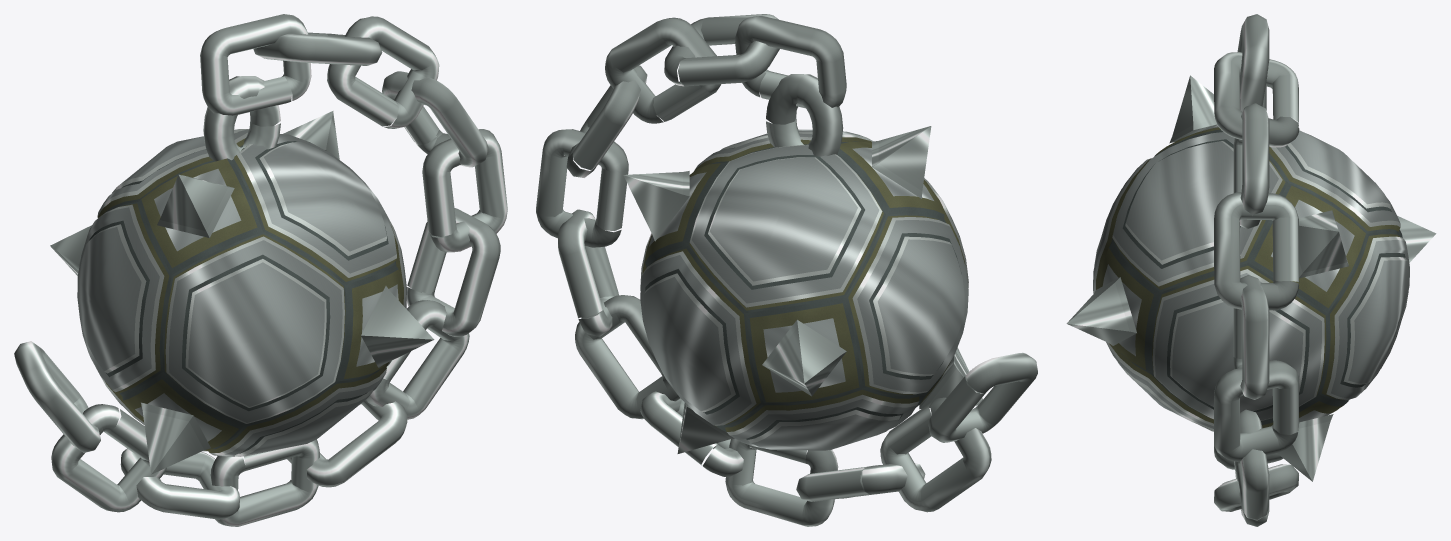
The model's file is ball_and_chain.glb.
3 views of the same model, side by side, from view 1: azimuth 30°, elevation 25°; view 2: azimuth 150°, elevation 25°; view 3: azimuth 270°, elevation 25° (orthographic). The views are drawn at different scales.
Parts seen in each view (by area): view 1: Cast plate 07 / recessed step 7, Sharp four-sided iron spike (×5), Cast plate 06 / recessed step 7, Cast plate 03 / recessed step 7, Forged rectangular chain link 00, Forged rectangular chain link 02, Forged rectangular chain link 04, Forged rectangular chain link 05, Forged rectangular chain link 10, Forged rectangular chain link 08, Cast plate 07 / recessed step 3, Forged rectangular chain link 06 (+44 smaller); view 2: Cast plate 02 / recessed step 7, Sharp four-sided iron spike (×5), Cast plate 03 / recessed step 7, Cast plate 00 / recessed step 7, Forged rectangular chain link 04, Forged rectangular chain link 10, Forged rectangular chain link 02, Forged rectangular chain link 11, Forged rectangular chain link 00, Forged rectangular chain link 01, Forged rectangular chain link 06, Forged rectangular chain link 05 (+40 smaller); view 3: Sharp four-sided iron spike (×5), Cast plate 06 / recessed step 7, Cast plate 04 / recessed step 7, Forged rectangular chain link 03, Forged rectangular chain link 05, Forged rectangular chain link 01, Cast plate 00 / recessed step 7, Forged rectangular chain link 04, Forged rectangular chain link 02, Cast plate 04 / recessed step 3, Cast plate 12 / recessed step 1, Cast plate 02 / recessed step 7 (+37 smaller).
Boxes of the visible parts, box(x1,y1,x2,y2) form: Cast plate 07 / recessed step 7: box(188, 262, 324, 406); Sharp four-sided iron spike (×5): box(50, 111, 434, 474); Cast plate 06 / recessed step 7: box(264, 141, 386, 251); Cast plate 03 / recessed step 7: box(78, 227, 141, 371); Forged rectangular chain link 00: box(200, 14, 311, 115); Forged rectangular chain link 02: box(327, 16, 439, 128); Forged rectangular chain link 04: box(422, 129, 507, 252); Forged rectangular chain link 05: box(406, 208, 500, 336); Forged rectangular chain link 10: box(51, 404, 166, 512); Forged rectangular chain link 08: box(210, 439, 319, 526); Cast plate 07 / recessed step 3: box(169, 240, 342, 422); Forged rectangular chain link 06: box(366, 300, 469, 419); Cast plate 02 / recessed step 7: box(709, 157, 857, 281); Sharp four-sided iron spike (×5): box(623, 126, 982, 453); Cast plate 03 / recessed step 7: box(877, 239, 964, 374); Cast plate 00 / recessed step 7: box(644, 277, 730, 411); Forged rectangular chain link 04: box(536, 129, 628, 247); Forged rectangular chain link 10: box(880, 397, 991, 512); Forged rectangular chain link 02: box(605, 17, 721, 123); Forged rectangular chain link 11: box(928, 352, 1037, 442); Forged rectangular chain link 00: box(735, 16, 846, 108); Forged rectangular chain link 01: box(664, 14, 779, 86); Forged rectangular chain link 06: box(575, 295, 680, 419); Forged rectangular chain link 05: box(558, 209, 618, 336); Sharp four-sided iron spike (×5): box(1066, 75, 1436, 481); Cast plate 06 / recessed step 7: box(1126, 141, 1233, 260); Cast plate 04 / recessed step 7: box(1172, 302, 1303, 412); Forged rectangular chain link 03: box(1214, 192, 1299, 310); Forged rectangular chain link 05: box(1214, 360, 1299, 461); Forged rectangular chain link 01: box(1214, 52, 1299, 147); Cast plate 00 / recessed step 7: box(1348, 260, 1409, 383); Forged rectangular chain link 04: box(1233, 275, 1269, 399); Forged rectangular chain link 02: box(1233, 103, 1269, 229); Cast plate 04 / recessed step 3: box(1155, 273, 1321, 420); Cast plate 12 / recessed step 1: box(1254, 185, 1365, 308); Cast plate 02 / recessed step 7: box(1290, 130, 1390, 204).
Bounding box in the file's own units: 374 × 365 × 255.
5 materials, 5 textured.
